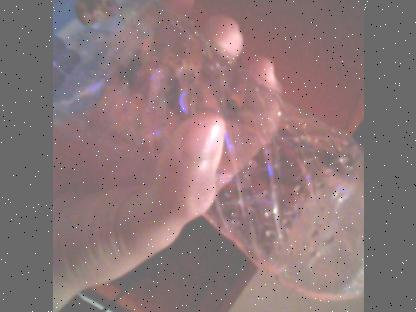Plastic Bottle: (52, 0, 364, 300)
